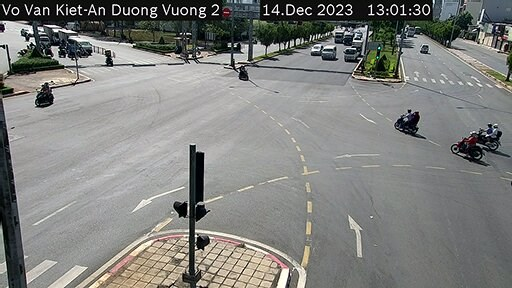car: (339, 44, 355, 62), (322, 45, 334, 63), (308, 43, 318, 55)
motorbike: (448, 125, 486, 166), (478, 119, 505, 152), (399, 108, 421, 135), (31, 86, 55, 106), (236, 62, 252, 82)
